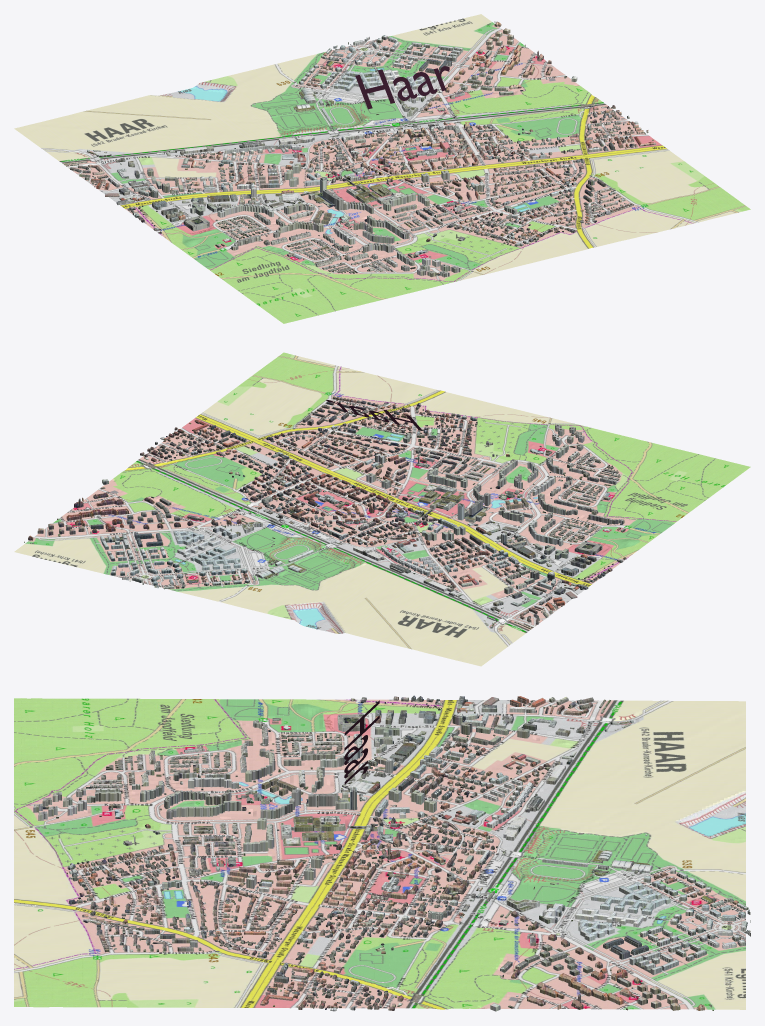
The model's file is asset.glb.
3 views of the same model, one above another, from view 1: azimuth 30°, elevation 25°; view 2: azimuth 150°, elevation 25°; view 3: azimuth 270°, elevation 25° (orthographic). The views are drawn at different scales.
Parts seen in each view (by area): view 1: Haar_DGM_10m, B, A, Text.001; view 2: Haar_DGM_10m, B, A; view 3: Haar_DGM_10m, B, A, Text.001.
Part boxes in pixels (<box>): Haar_DGM_10m: <box>14,14,750,323</box>; B: <box>153,109,655,277</box>; A: <box>64,21,615,223</box>; Text.001: <box>355,66,449,109</box>; Haar_DGM_10m: <box>14,352,750,666</box>; B: <box>147,396,626,564</box>; A: <box>24,452,612,629</box>; Haar_DGM_10m: <box>14,698,745,1009</box>; B: <box>33,697,388,1011</box>; A: <box>374,695,750,1011</box>; Text.001: <box>344,700,379,784</box>.
Size of the model in its own units: 2022 by 424 by 2003.
4 materials, 3 textured.
